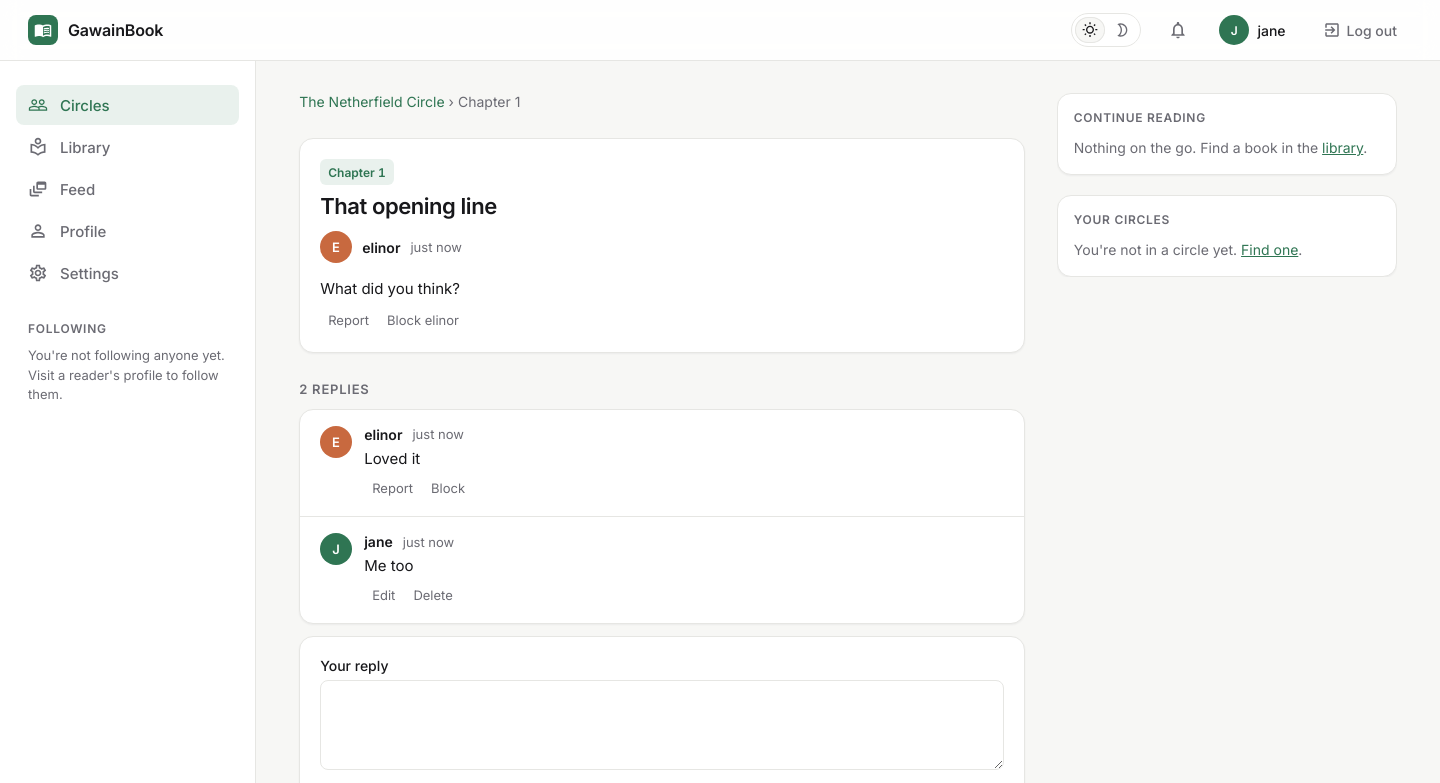
reporting › choose a reason, add a note, send, see a thank-you
The image size is (1440, 783).
Click the button with aria-label "Report reply by elinor": [393, 488] box x1=364 y1=476 x2=421 y2=500
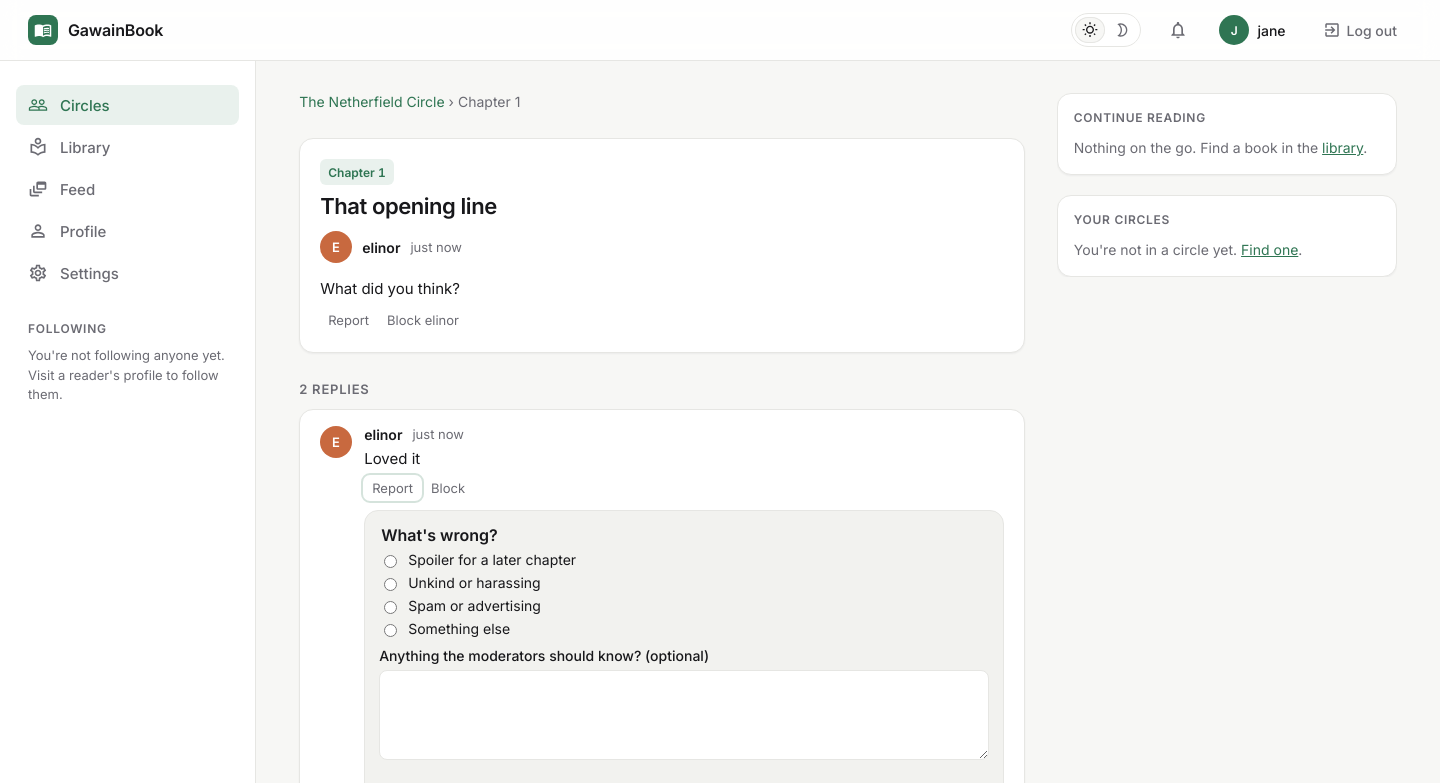
Click the radio button labelled "Spoiler for a later chapter": [391, 561] box x1=384 y1=554 x2=397 y2=568
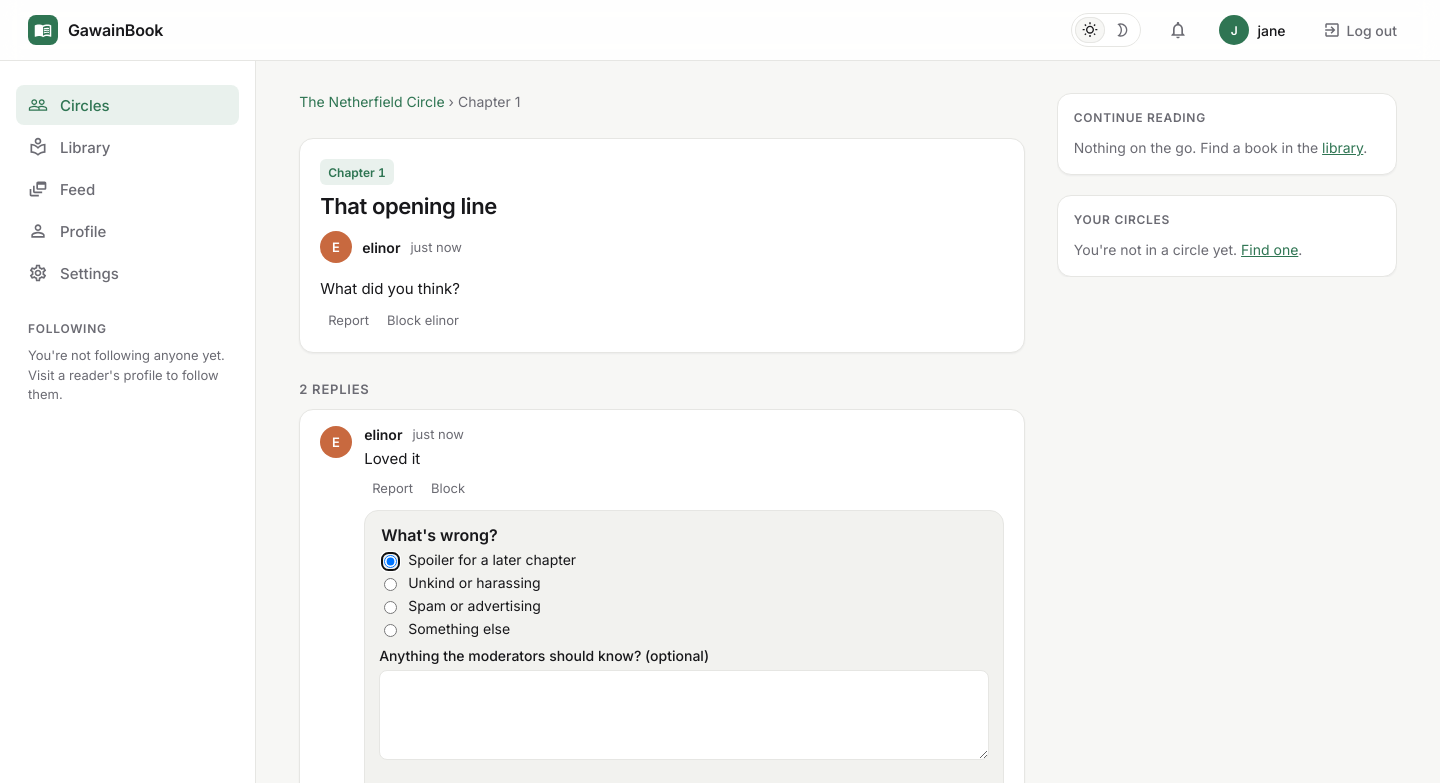
In the text box labelled "Anything the moderators should know? (optional)": [684, 715] box x1=379 y1=670 x2=989 y2=760, type " ch 40 "
(page scrolled)
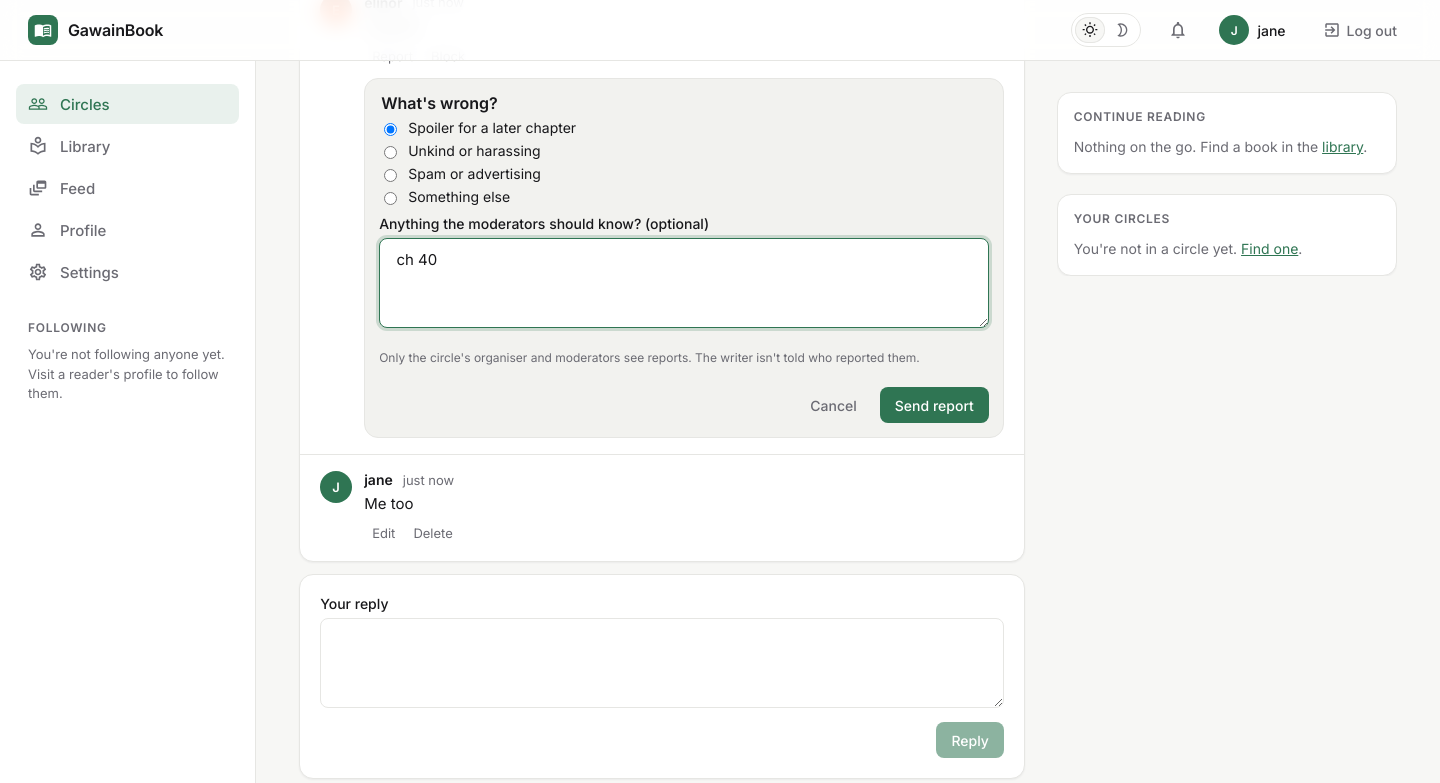
Click the button "Send report": [934, 405] box x1=880 y1=387 x2=989 y2=423
(page scrolled)
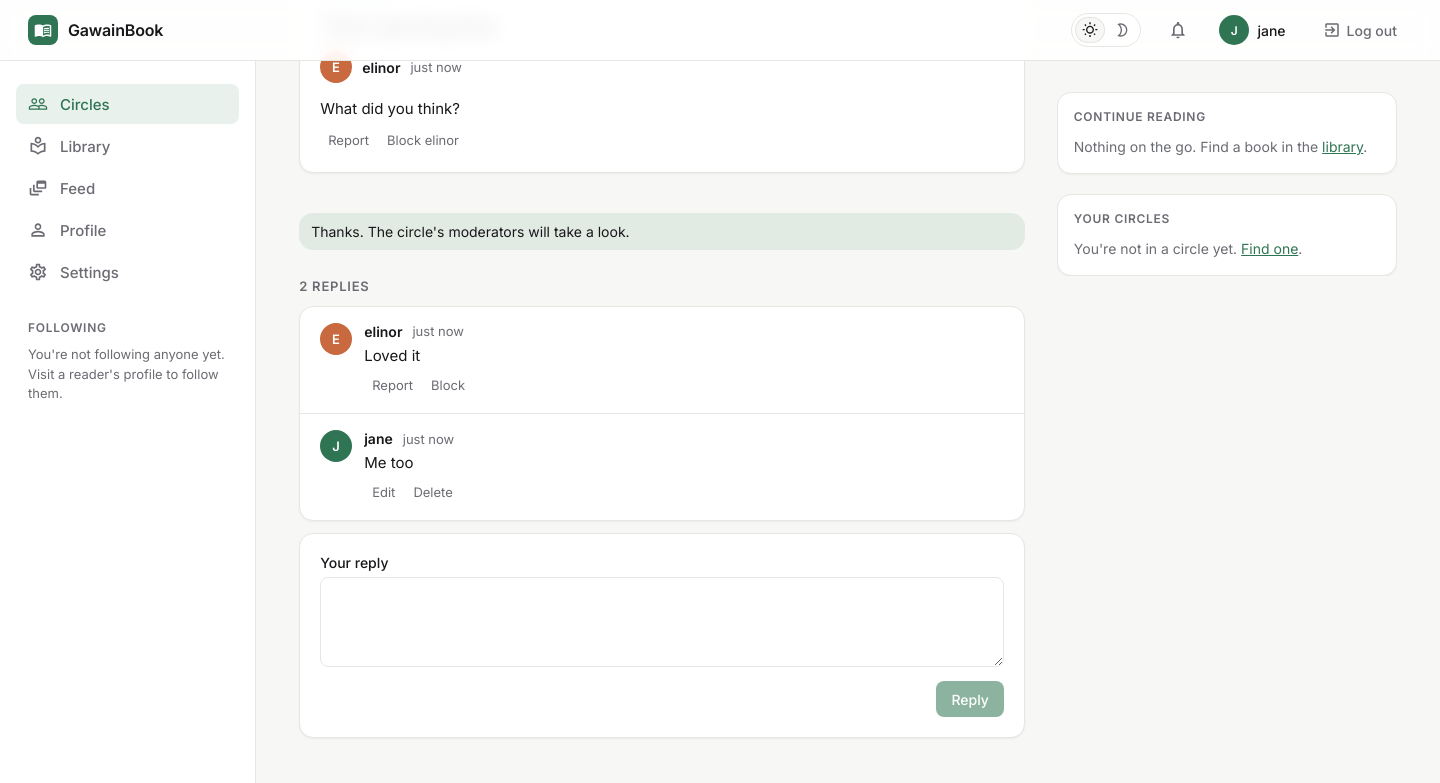
Expected: the message shows "moderators will take a look", x1=311 y1=223 x2=630 y2=240
